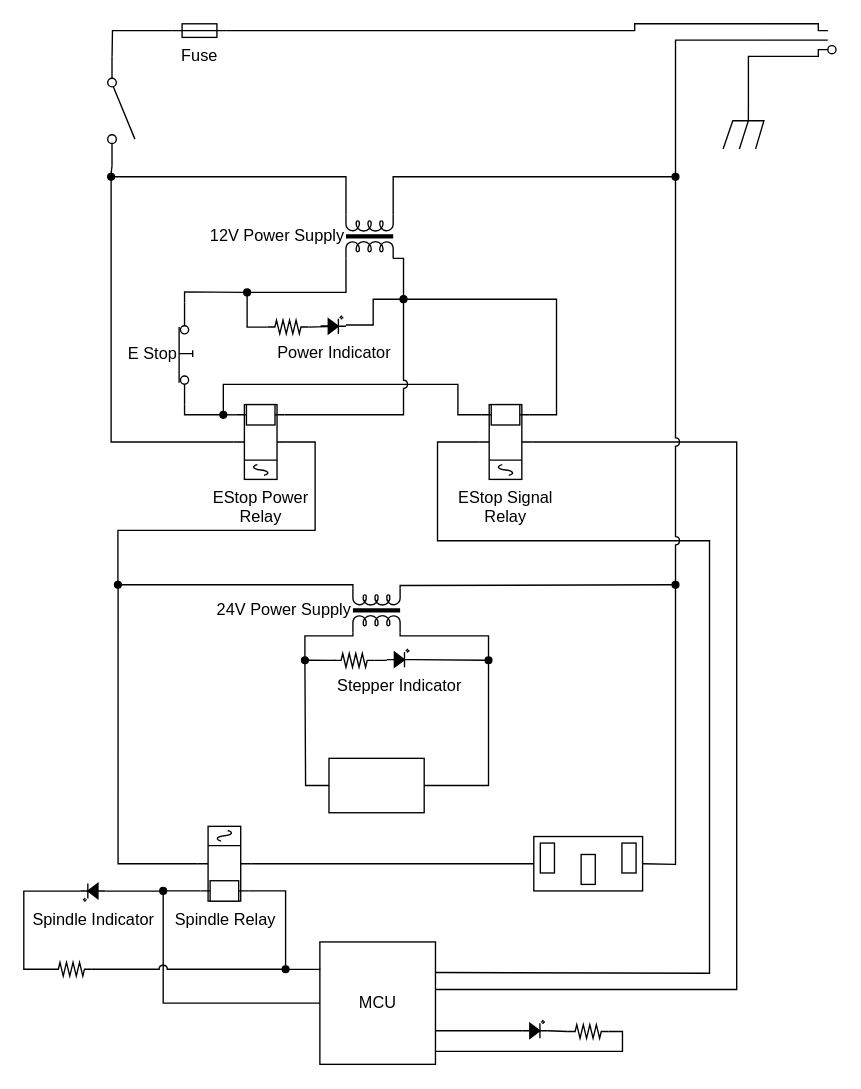
Some shapes in this 861 by 1089 pixel diagram are drawn without their labels. The shapes that lost their labels are listed below. From the top down, each one's centre as x and y in pixels, then its label:
point 120,110: Mains Power Switch
point 376,785: Stepper Drivers
point 587,863: Spindle Power
point 534,1028: USB Indicator
